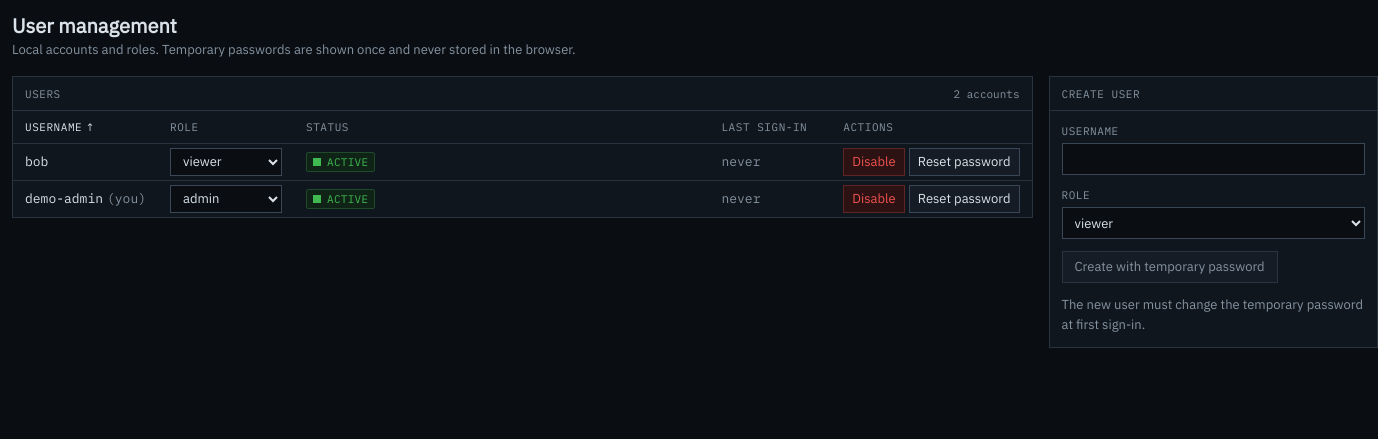
Scenario: admin user management page › shows the last-admin error from the backend
Expected: the row with test id "user-row-demo-admin" is shown, [13, 180, 1032, 216]
Step 1. Click the button "Disable" in the row of "demo-admin" → (874, 198), box [843, 184, 905, 212]
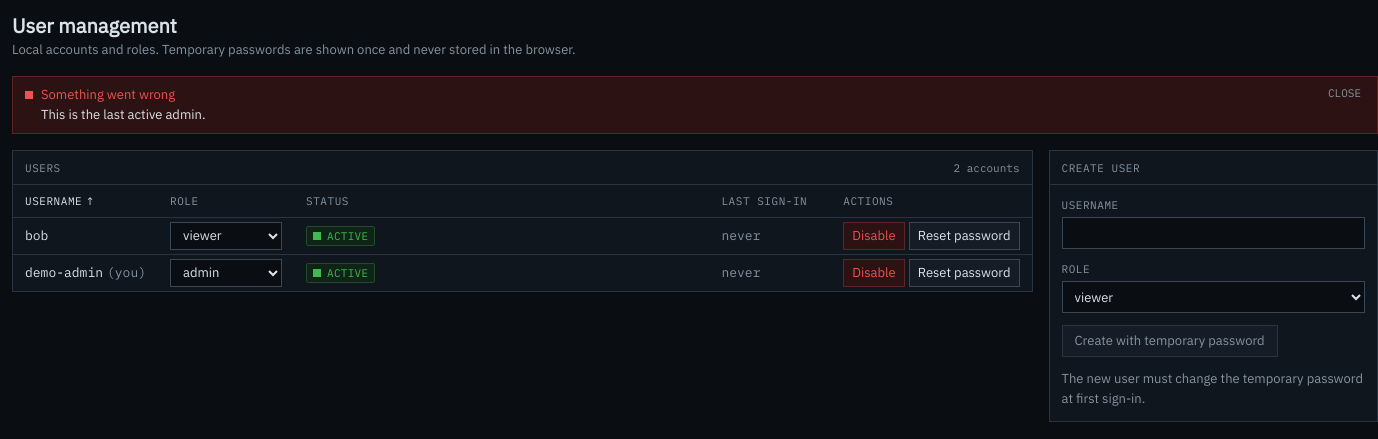
Expected: the text "This is the last active admin." is shown, [41, 105, 205, 125]
